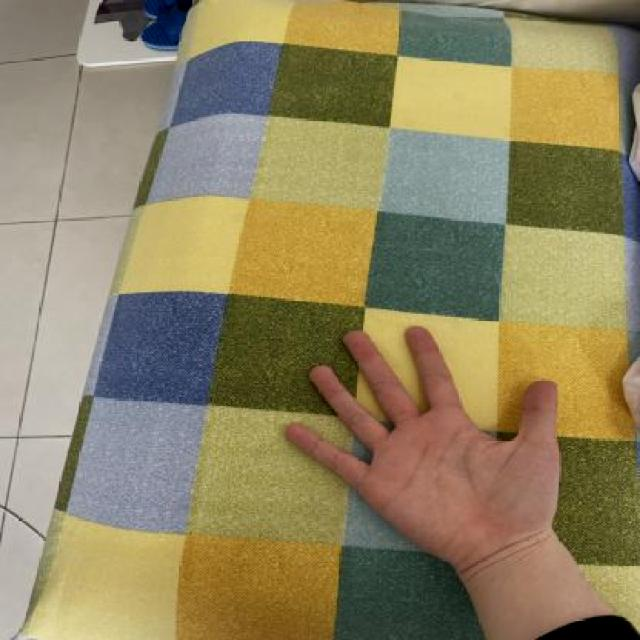no_glove: (267, 313, 591, 579)
